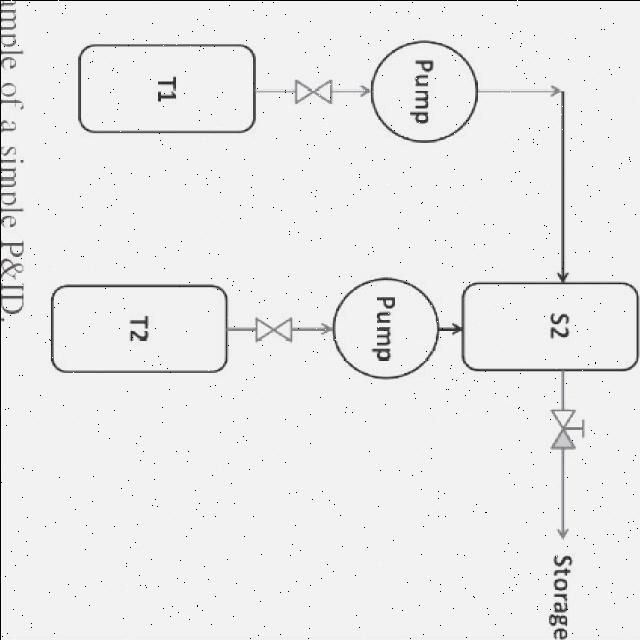Gate Valve: (286, 74, 341, 112), (244, 314, 302, 349)
Hand Operated Gate Valve: (540, 397, 598, 462)
